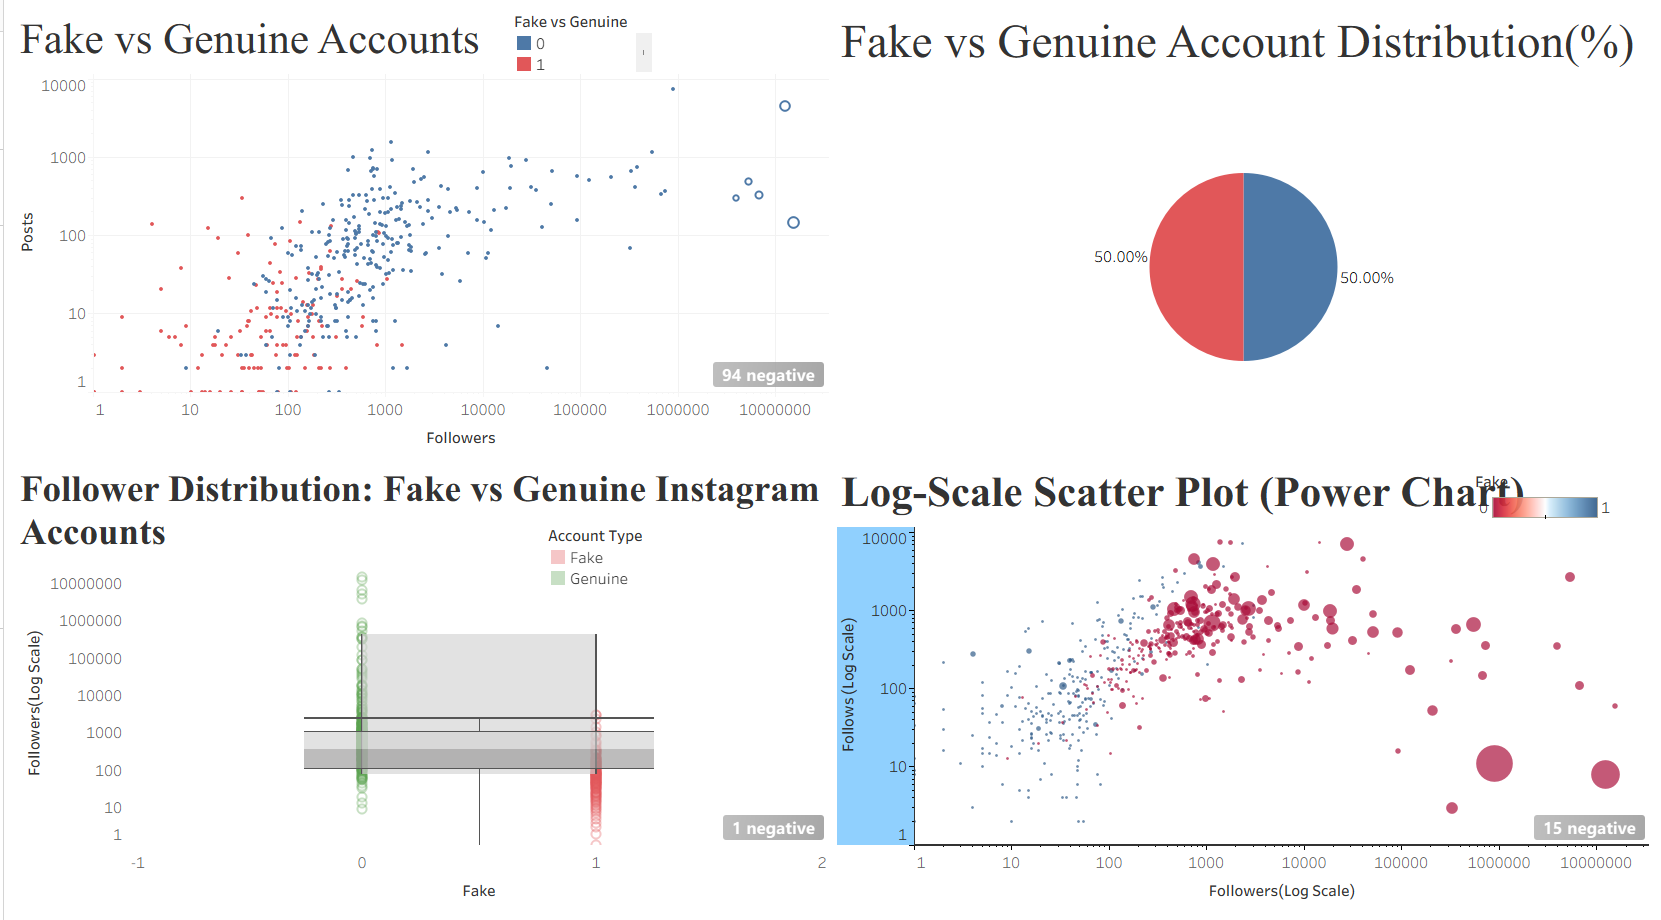

What the dashboard file says about the page in this screenshot:
{"tool":"tableau","page":{"name":"Overview of Instagram Fake Spammer Genuine Accounts","canvas":[1000,1000],"units":"permille","ordinal":1},"visuals":[{"type":"worksheet","title":"Fake vs Genuine Accounts","mark":"Automatic","rows":["#posts"],"cols":["#followers"],"box":[4.2,7.4,522.9,492.6]},{"type":"worksheet","title":"Fake vs Genuine Account Distribution(%)","mark":"Pie","box":[527.1,7.4,468.8,492.6]},{"type":"legend","title":"Fake vs Genuine Accounts","param":"[federated.1yhioc4039c8vd1f4n8hq0ludo2e].[none:fake:ok]","box":[268.8,26.9,72.9,59.3]},{"type":"worksheet","title":"Log-Scale Scatter Plot (Power Chart)","mark":"Circle","rows":["#follows"],"cols":["#followers"],"box":[4.2,500,522.9,492.6]},{"type":"worksheet","title":"Box Plot(Distribution Comparison)","mark":"Automatic","rows":["#followers"],"cols":["fake"],"box":[527.1,500,468.8,492.6]},{"type":"legend","title":"Log-Scale Scatter Plot (Power Chart)","param":"[federated.1yhioc4039c8vd1f4n8hq0ludo2e].[none:fake:qk]","box":[57.3,575,72.9,47.2]},{"type":"legend","title":"Box Plot(Distribution Comparison)","param":"[federated.1yhioc4039c8vd1f4n8hq0ludo2e].[none:Calculation_899875516981825536:nk","box":[914.1,583.3,83.3,62]}]}

Visuals, with their boxes on the dashboard's canvas, which has no fixed pixel size, in thousandths of its width and height (x1, y1, x2, y2). These are canvas units, not pixel positions in the 1661x920 screenshot, which may show the page scaled, cropped or inside an application window:
"Fake vs Genuine Accounts" worksheet: [4,7,527,500]
"Fake vs Genuine Account Distribution(%)" worksheet (Pie marks): [527,7,996,500]
"Fake vs Genuine Accounts" legend: [269,27,342,86]
"Log-Scale Scatter Plot (Power Chart)" worksheet (Circle marks): [4,500,527,993]
"Box Plot(Distribution Comparison)" worksheet: [527,500,996,993]
"Log-Scale Scatter Plot (Power Chart)" legend: [57,575,130,622]
"Box Plot(Distribution Comparison)" legend: [914,583,997,645]
